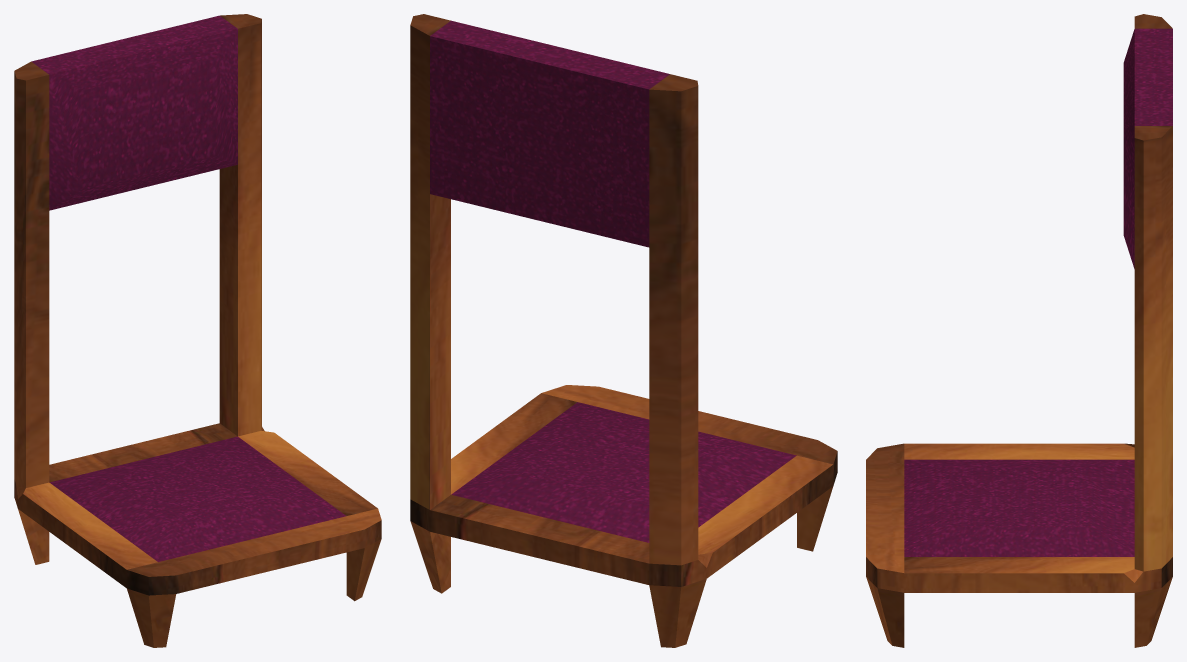
File: UglyChair1.fbx
3 views of the same model, side by side, from view 1: azimuth 30°, elevation 25°; view 2: azimuth 150°, elevation 25°; view 3: azimuth 270°, elevation 25° (orthographic). The views are drawn at different scales.
Visible parts, largest first — view 1: SceneWithStuff3:pCube9; view 2: SceneWithStuff3:pCube9; view 3: SceneWithStuff3:pCube9.
Boxes of the visible parts, <box> form: SceneWithStuff3:pCube9: <box>14,14,381,647</box>; SceneWithStuff3:pCube9: <box>410,14,837,647</box>; SceneWithStuff3:pCube9: <box>866,14,1172,647</box>.
Bounding box in the file's own units: 0.6398 × 1.18 × 0.6398.
1 material, 1 textured.
